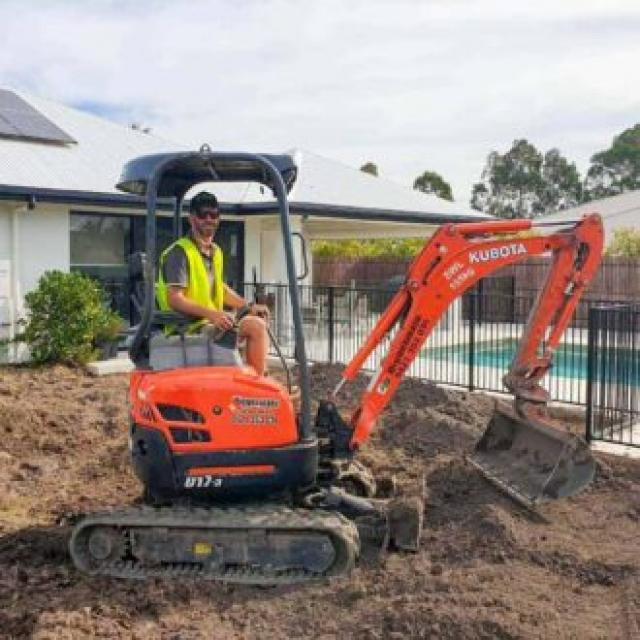excavator: (68, 143, 604, 588)
plant: (24, 268, 120, 370)
